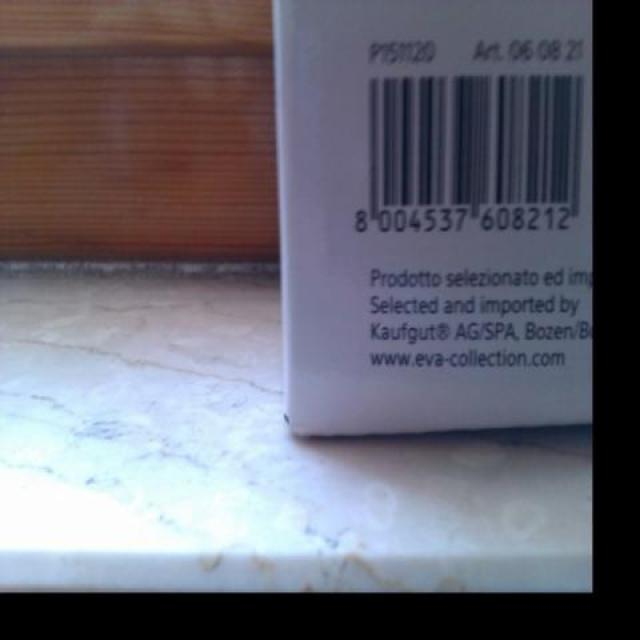Barcode: (341, 64, 587, 239)
